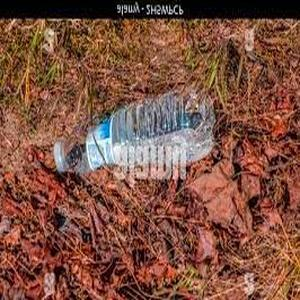Plastic: (52, 85, 215, 179)
